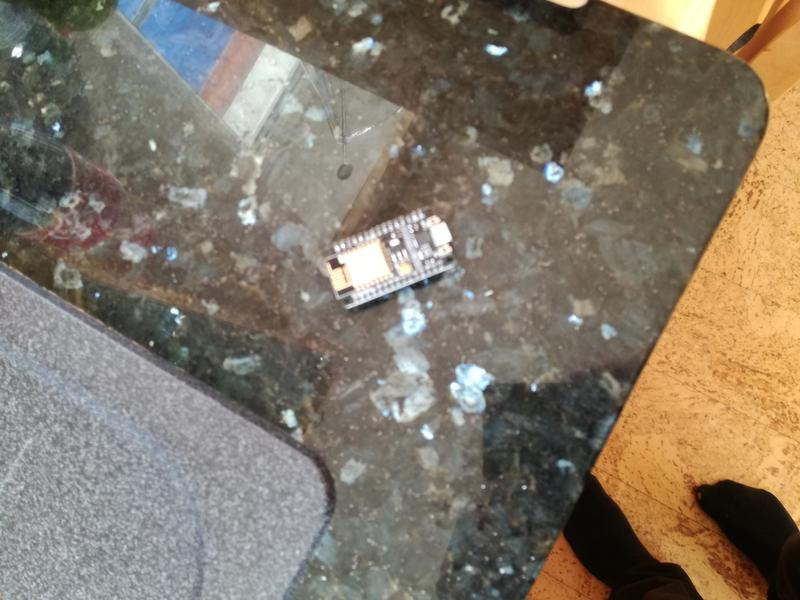ESP8266: (316, 205, 465, 313)
